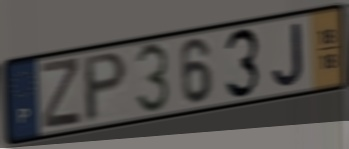3: (220, 25, 264, 101), (133, 40, 171, 116)
6: (178, 36, 215, 106)
J: (271, 20, 306, 89)
P: (82, 49, 130, 127)
Z: (39, 54, 83, 130)
